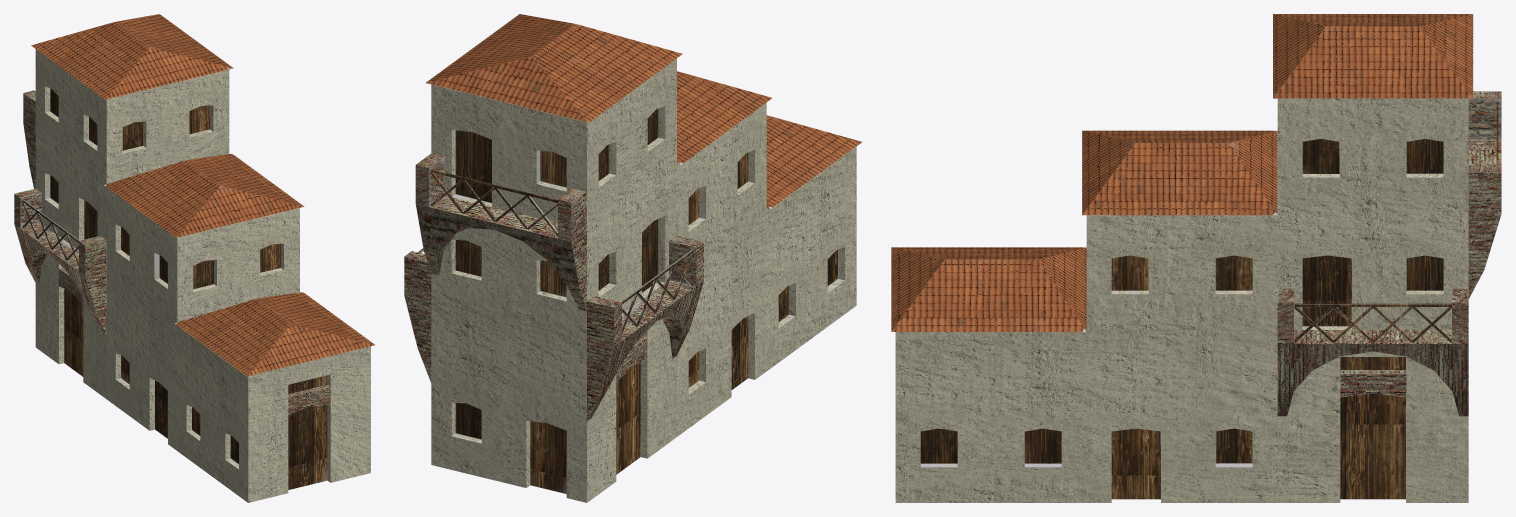
File: villa5.fbx
3 views of the same model, side by side, from view 1: azimuth 30°, elevation 25°; view 2: azimuth 150°, elevation 25°; view 3: azimuth 270°, elevation 25° (orthographic). The views are drawn at different scales.
Parts seen in each view (by area): view 1: insula3_0; view 2: insula3_0; view 3: insula3_0.
Boxes of the visible parts, bbox=[...] form: insula3_0: bbox=[14, 14, 375, 502]; insula3_0: bbox=[404, 14, 862, 502]; insula3_0: bbox=[891, 14, 1501, 502].
Bounding box in the file's own units: 38.75 × 72.5 × 91.94.
Materials: 1 (1 with a texture image).
